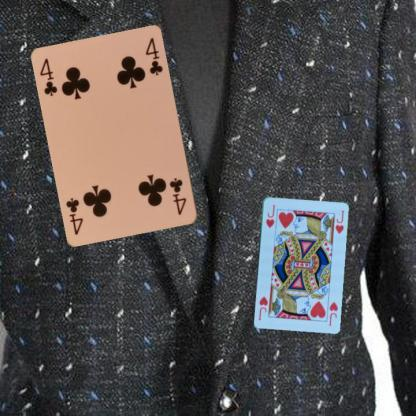4c: (37, 56, 59, 98), (167, 175, 188, 217)
Jh: (263, 202, 276, 229), (327, 299, 339, 327)
